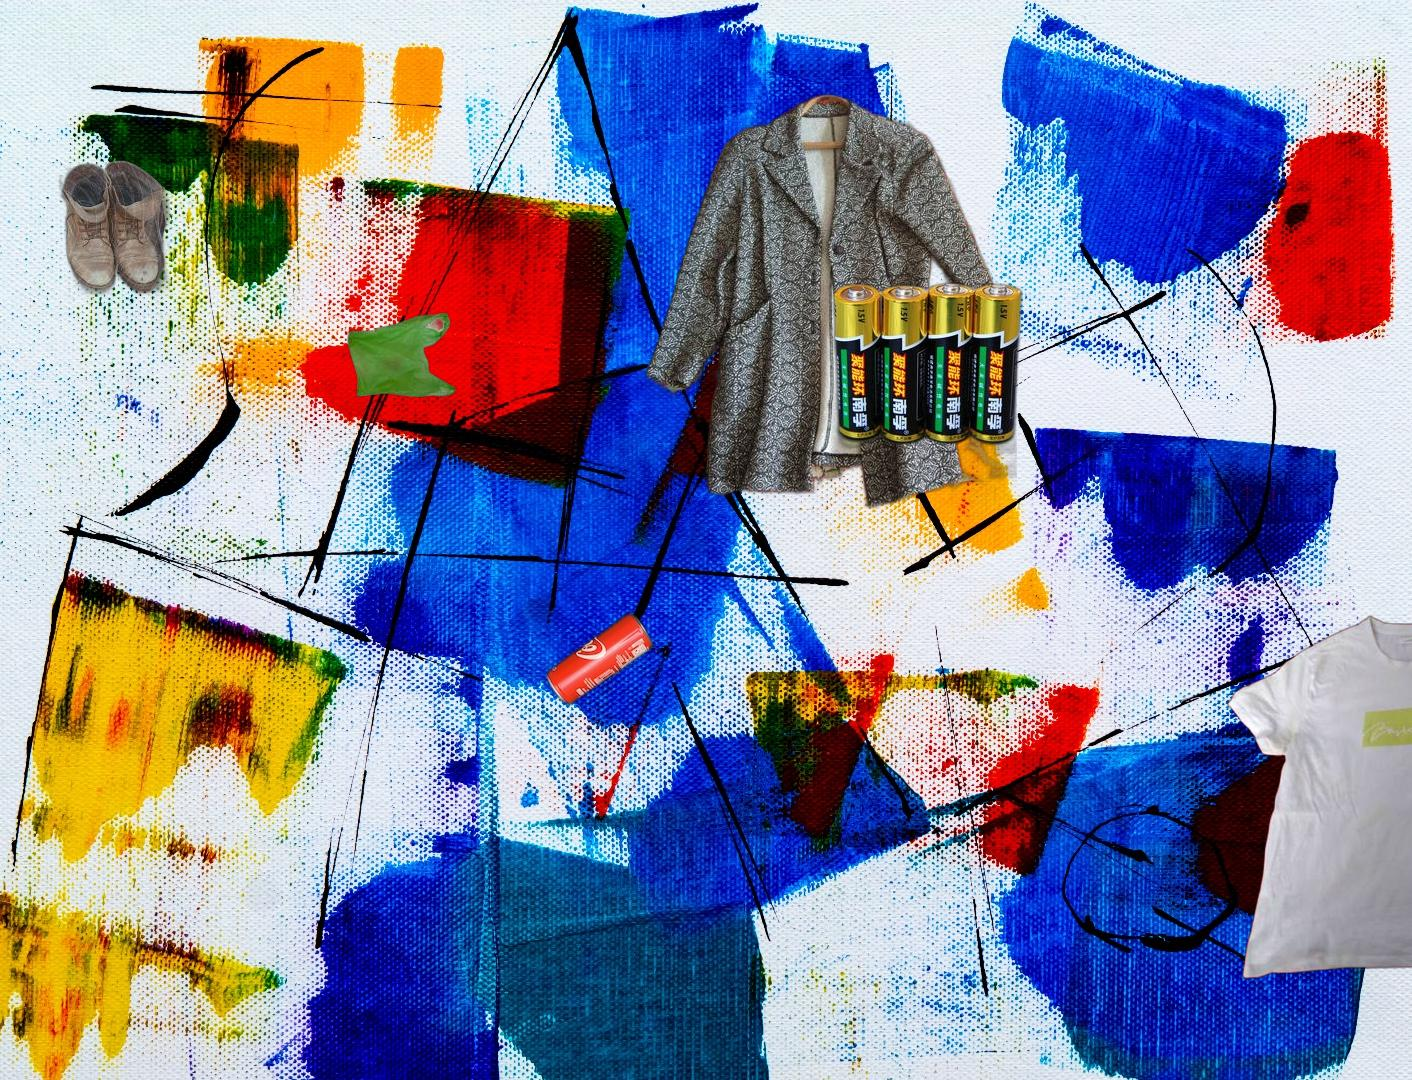battery: (827, 279, 1028, 452)
clothes: (633, 90, 1017, 548), (1226, 607, 1412, 984)
metal-cans: (360, 383, 658, 803)
plastic-bag: (346, 311, 459, 398)
shoes: (57, 158, 170, 341)
